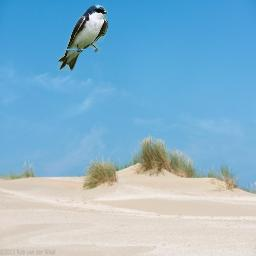Swallow: (57, 4, 108, 71)
